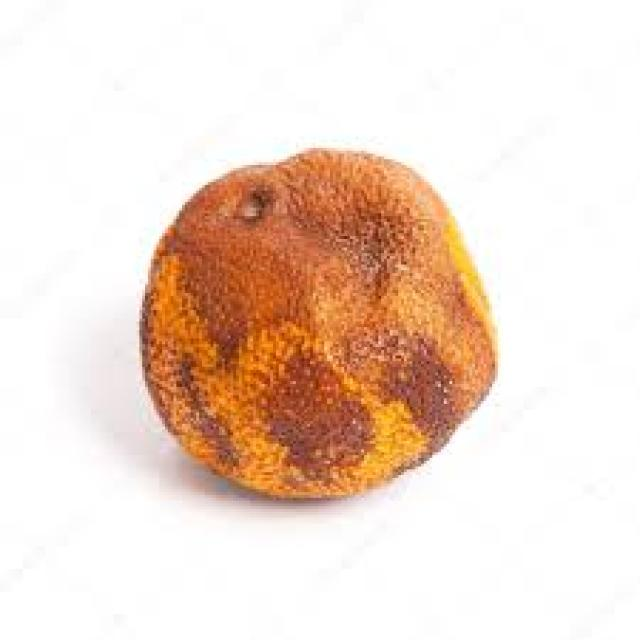Orange: (137, 145, 474, 501)
